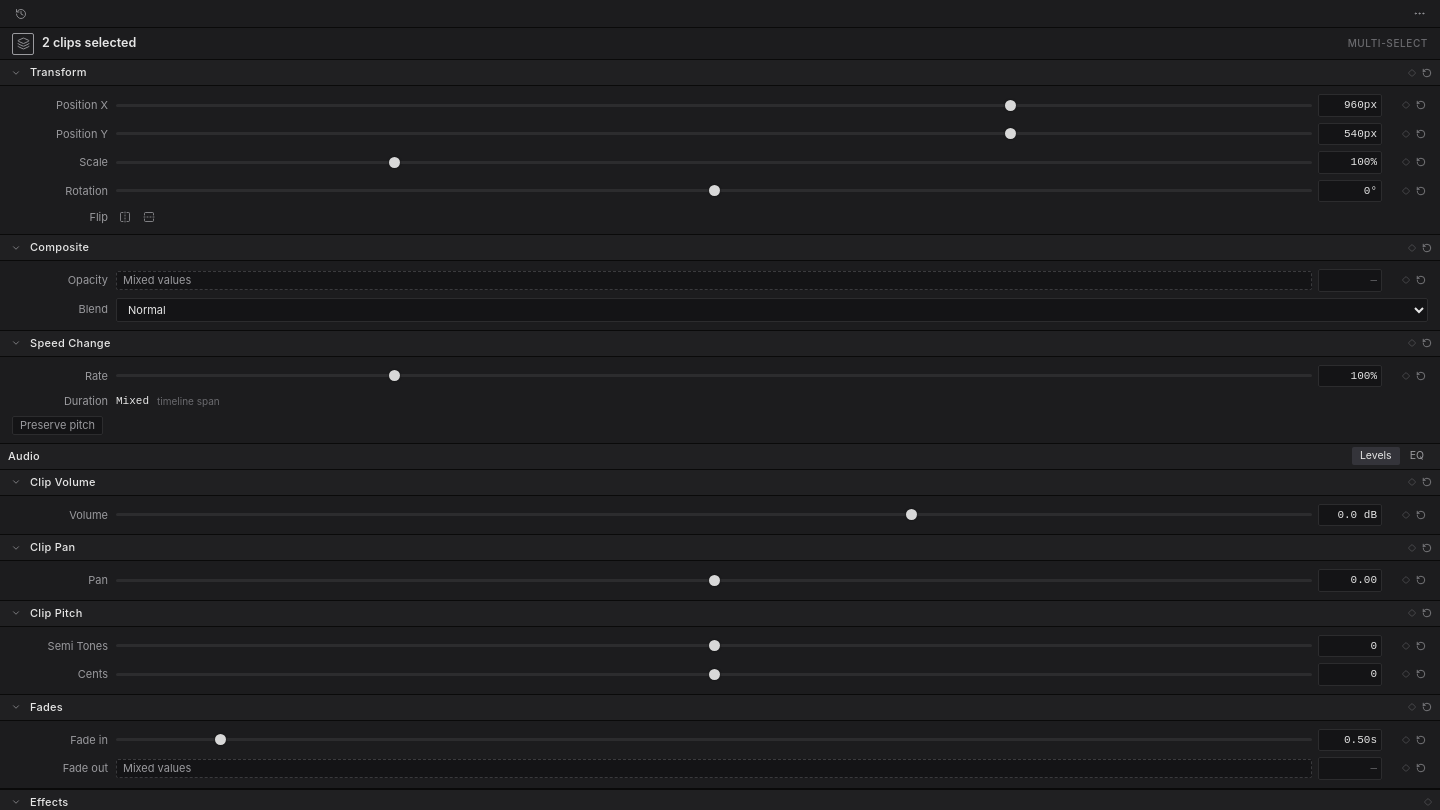
Test: Inspector (R20-W3 D4 — type-driven, no tab strip) › mixed regression: entering EXACTLY the first element's value still fans out (R13 fix)
This screenshot has width=1440, height=810.
Type "100" into the field named "Opacity — mixed values; typing sets all selected" at point(1350, 280), box [1318,269,1382,292]
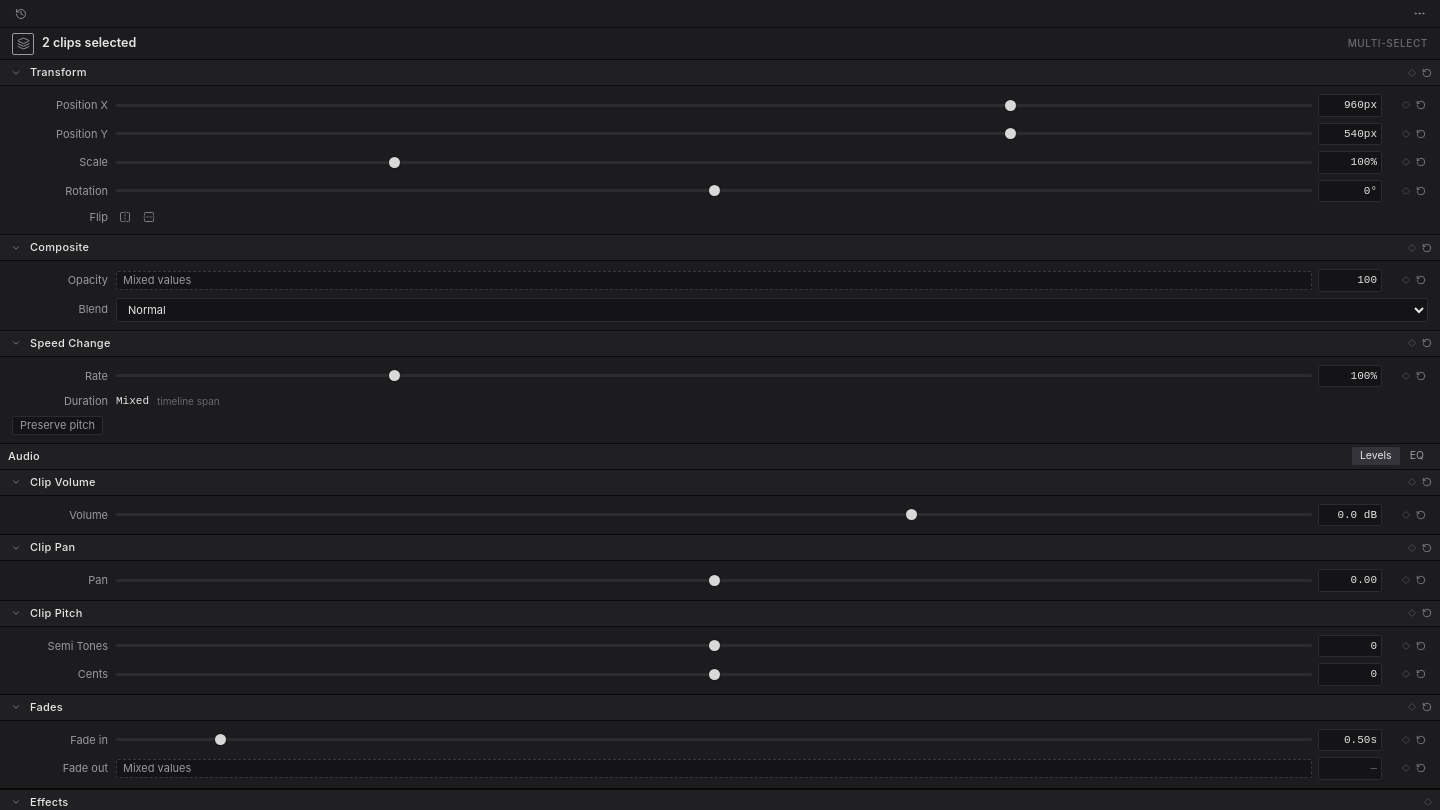
Leave the field named "Opacity — mixed values; typing sets all selected", box [1318,269,1382,292]
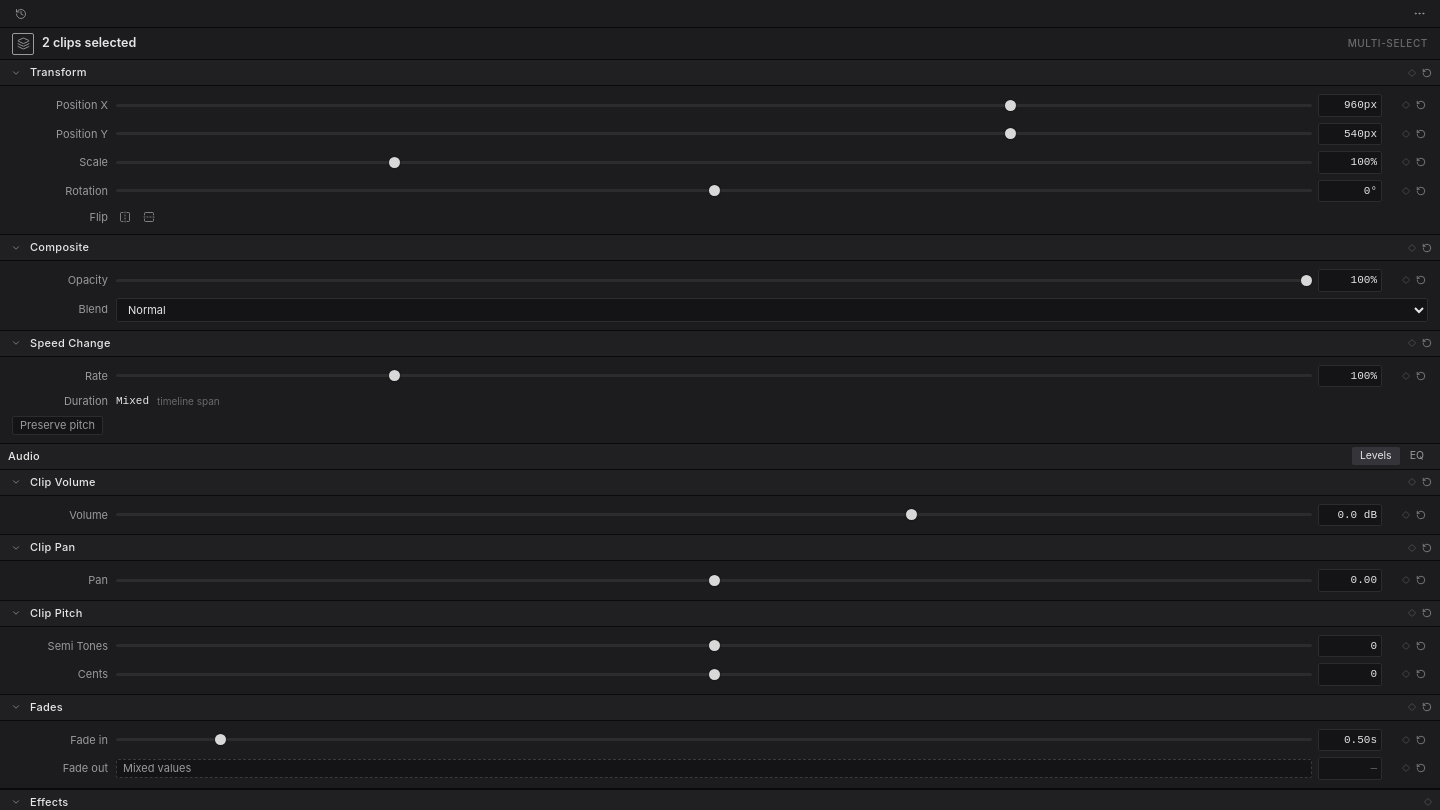
Now the field named "Opacity value" holds "100%", box [1318,269,1382,292]
